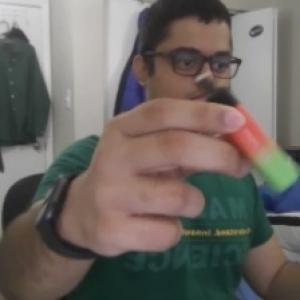Swift-E-Ciggirate: (187, 72, 300, 193)
